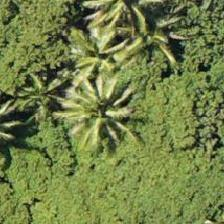coconut_tree: (60, 60, 150, 150)
